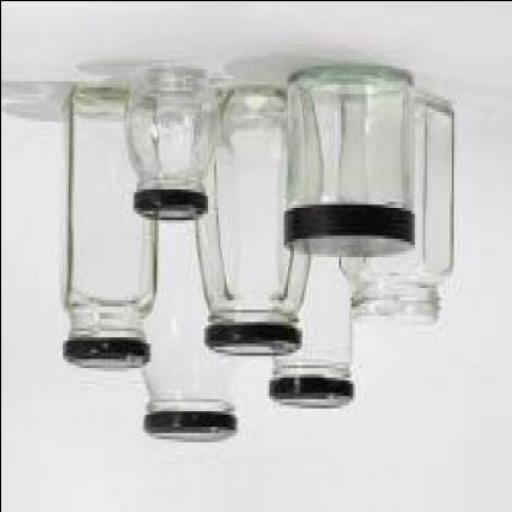glass: (336, 92, 454, 324), (197, 89, 311, 327), (61, 86, 156, 342), (139, 216, 244, 413), (284, 65, 416, 216), (125, 68, 220, 192), (273, 247, 356, 382)
metal: (285, 207, 415, 262), (145, 410, 238, 448), (207, 324, 301, 360), (271, 382, 354, 414), (136, 188, 210, 222), (64, 346, 154, 373)
